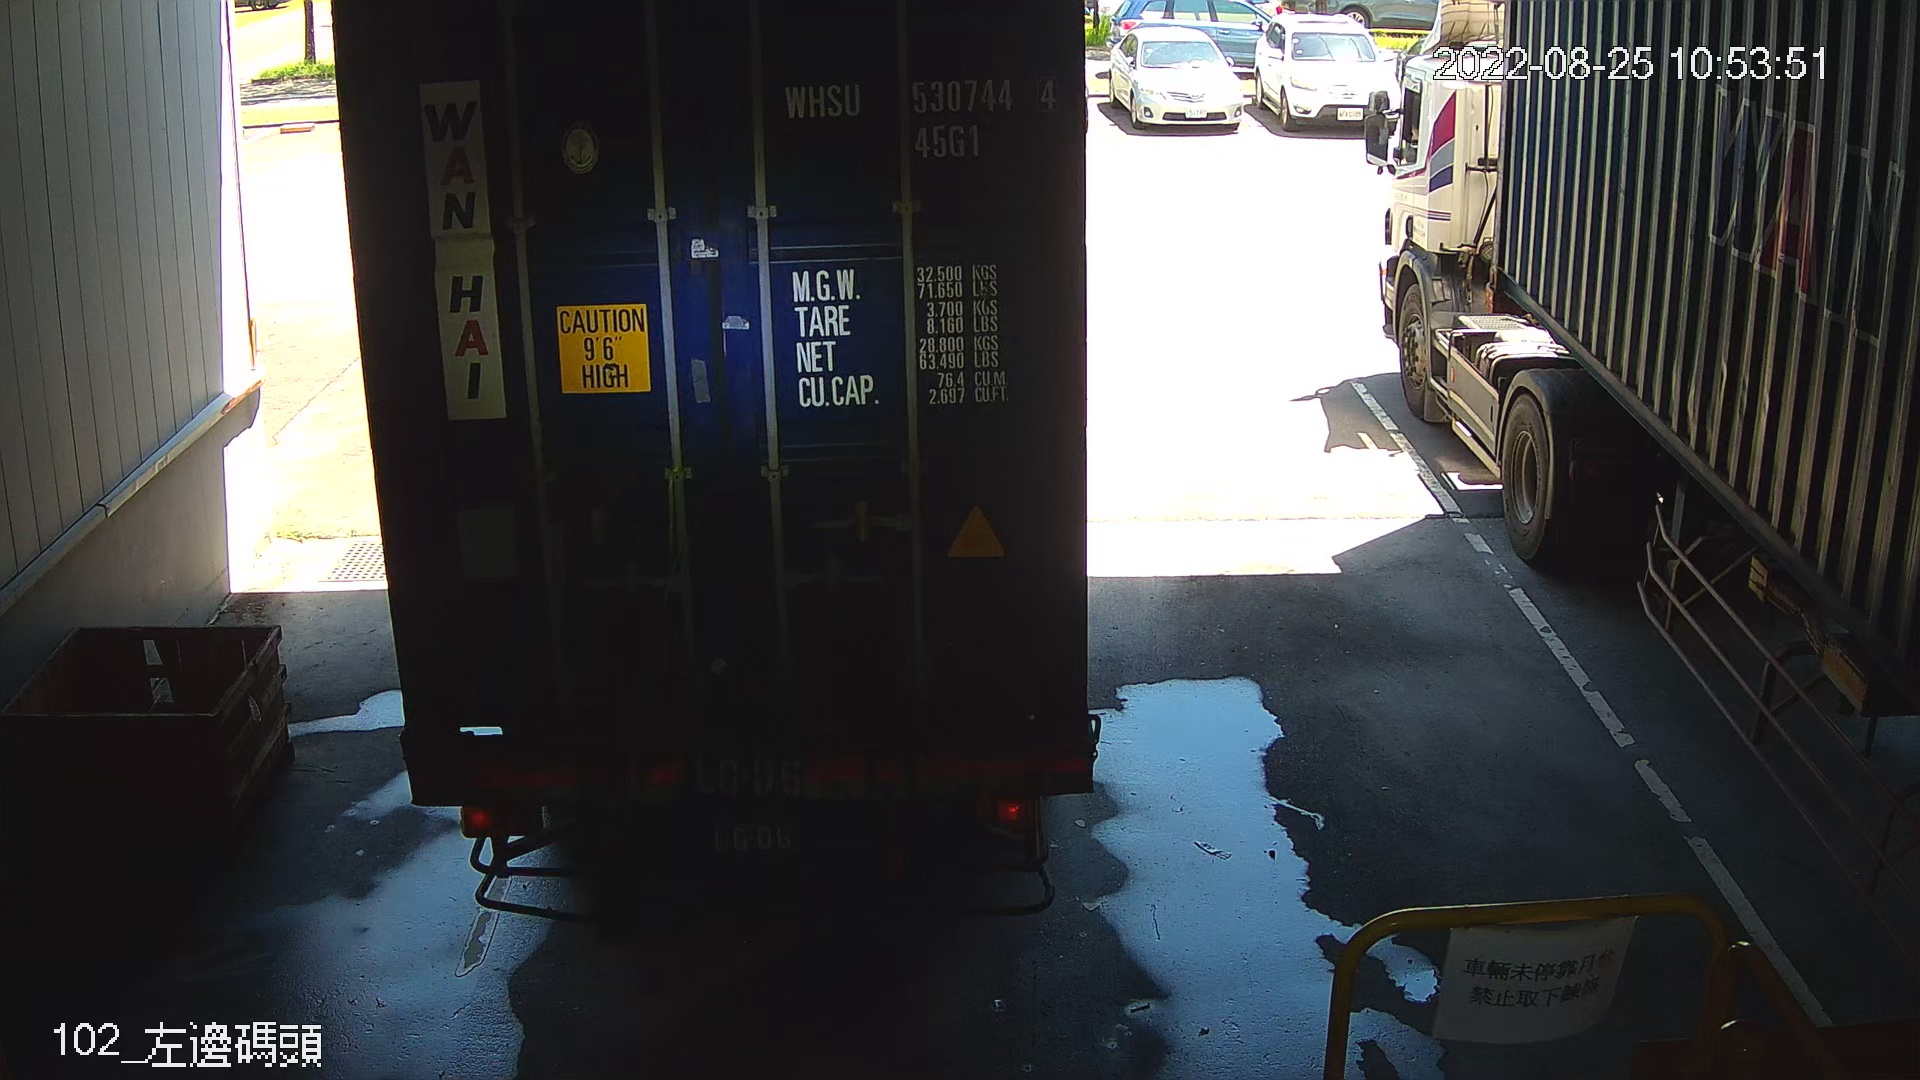container: (771, 63, 1073, 170)
